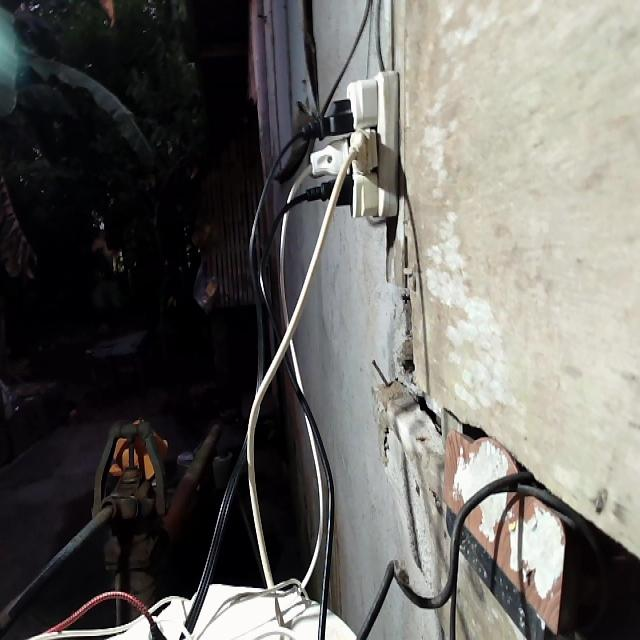-: (293, 68, 402, 217)
